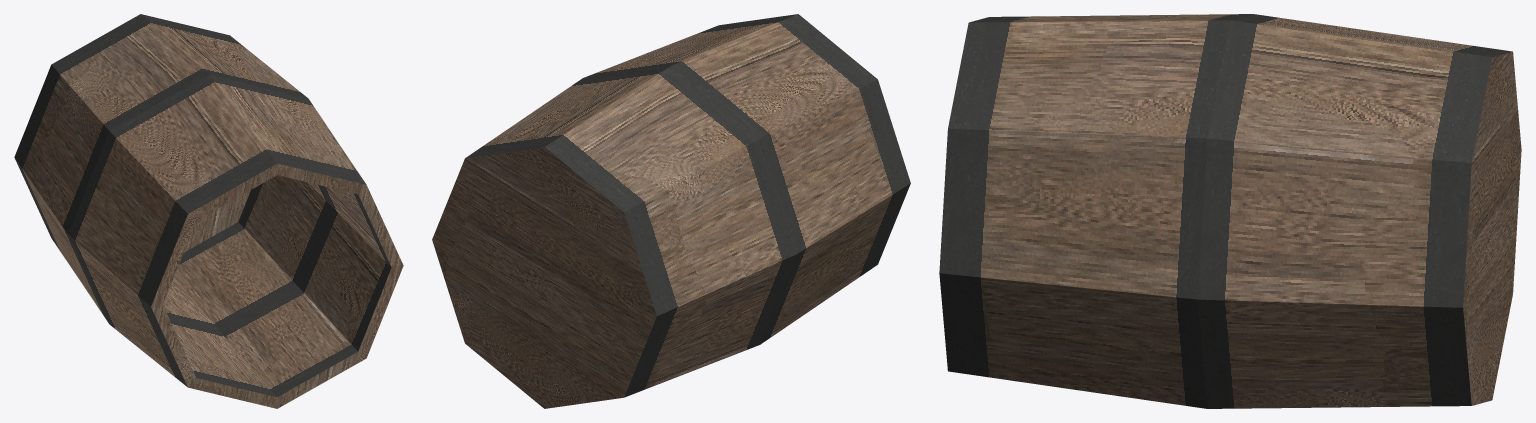
Rendered from barrel-1-open.glb.
The picture shows the model from 3 angles, left to right: view 1: azimuth 30°, elevation 25°; view 2: azimuth 150°, elevation 25°; view 3: azimuth 270°, elevation 25°; orthographic projection. The views are drawn at different scales.
Visible parts, largest first — view 1: Barrel_1_open; view 2: Barrel_1_open; view 3: Barrel_1_open.
Boxes of the visible parts, box(x1,y1,x2,y2) form: Barrel_1_open: box(14, 14, 403, 408); Barrel_1_open: box(432, 14, 910, 408); Barrel_1_open: box(939, 14, 1521, 408).
Size of the model in its own units: 0.6654 by 0.6158 by 0.8497.
1 material, 1 textured.
